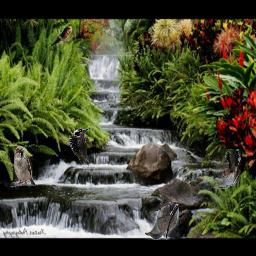Cuckoo: (145, 204, 179, 240), (213, 149, 241, 189)
Sparrow: (14, 146, 35, 186)
Swallow: (49, 26, 72, 47)
Woodpecker: (67, 126, 92, 166)
